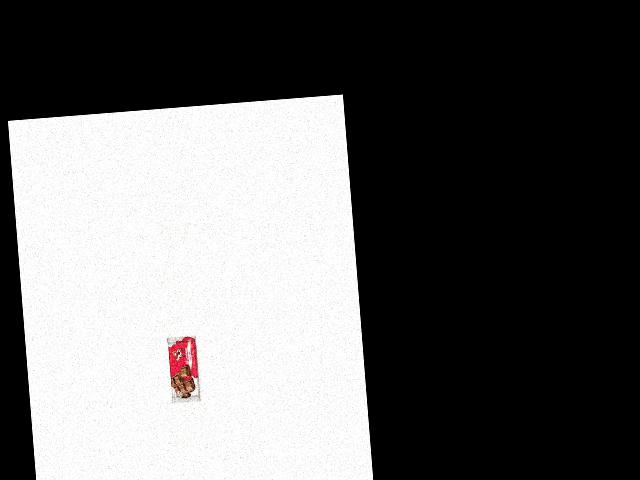chocolate: (164, 333, 206, 405)
